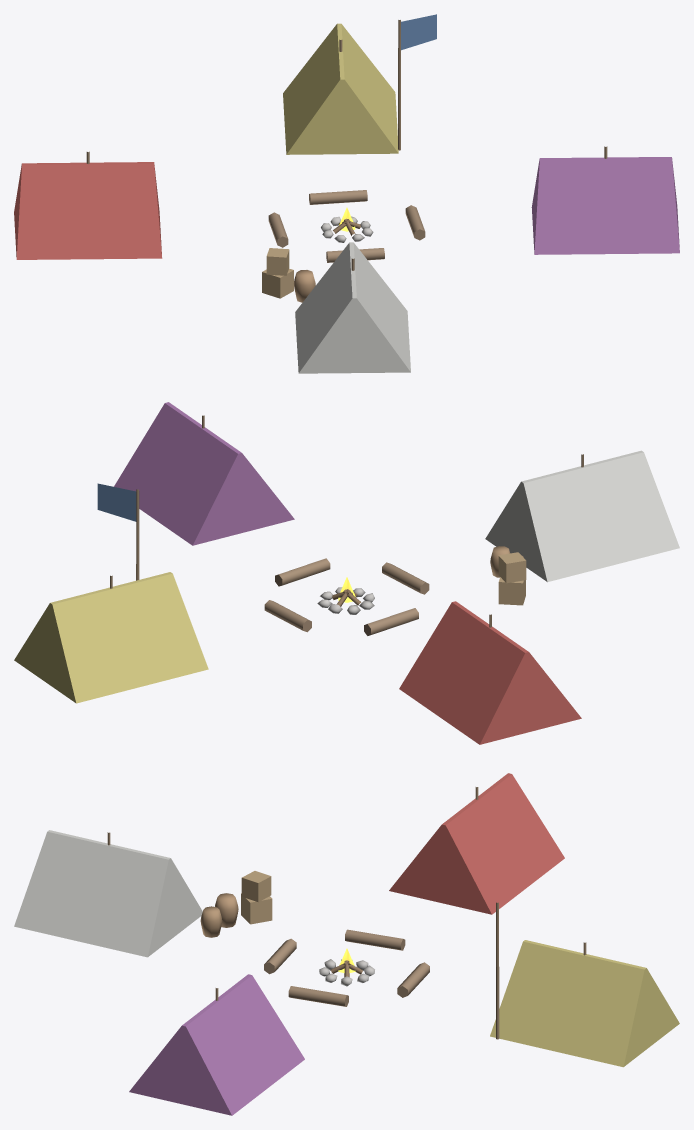
Rendered from struct_4_6.glb.
3 renders of one model, top to bottom at view 1: azimuth 30°, elevation 25°; view 2: azimuth 150°, elevation 25°; view 3: azimuth 270°, elevation 25°, orthographic. The views are drawn at different scales.
Visible parts, largest first — view 1: Landmarks; view 2: Landmarks; view 3: Landmarks.
Boxes of the visible parts, x1,y1,x2,y2 form: Landmarks: (14, 14, 679, 373); Landmarks: (14, 402, 679, 744); Landmarks: (14, 773, 679, 1115).
Size of the model in its own units: 22.11 by 5.05 by 22.11.
